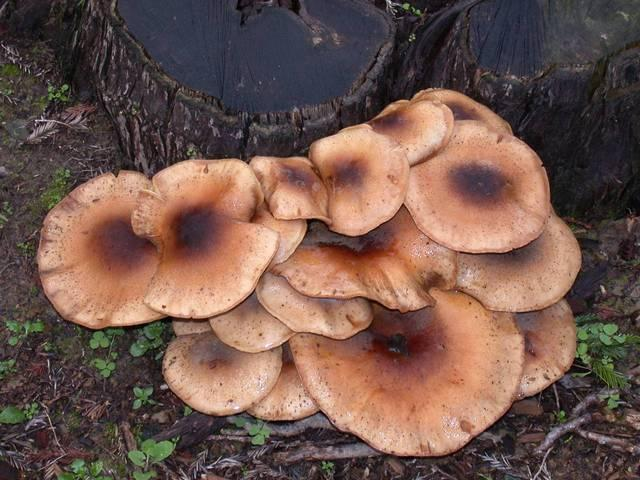edible_mushroom: (36, 85, 583, 457)
